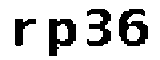3: (82, 6, 111, 49)
6: (116, 4, 150, 52)
p: (47, 17, 77, 58)
r: (10, 15, 38, 52)
